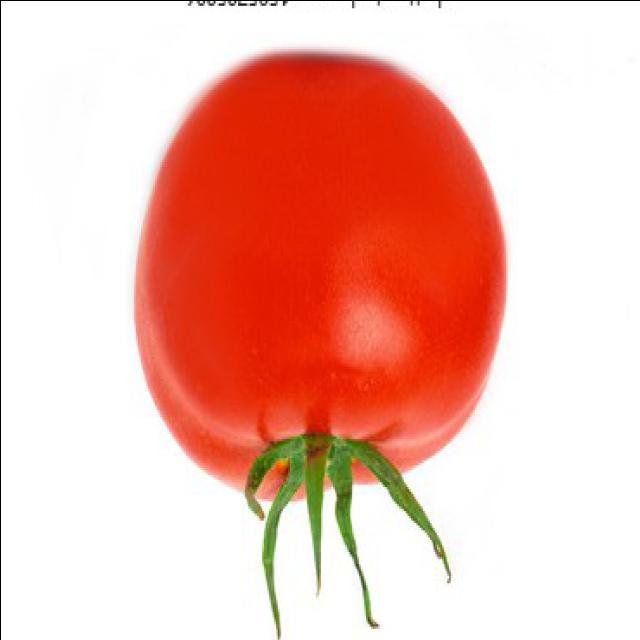Tomato: (132, 50, 510, 559)
